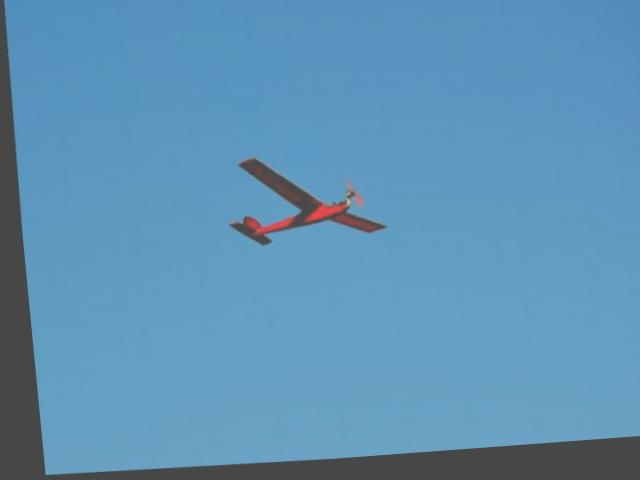iha: (209, 154, 383, 256)
